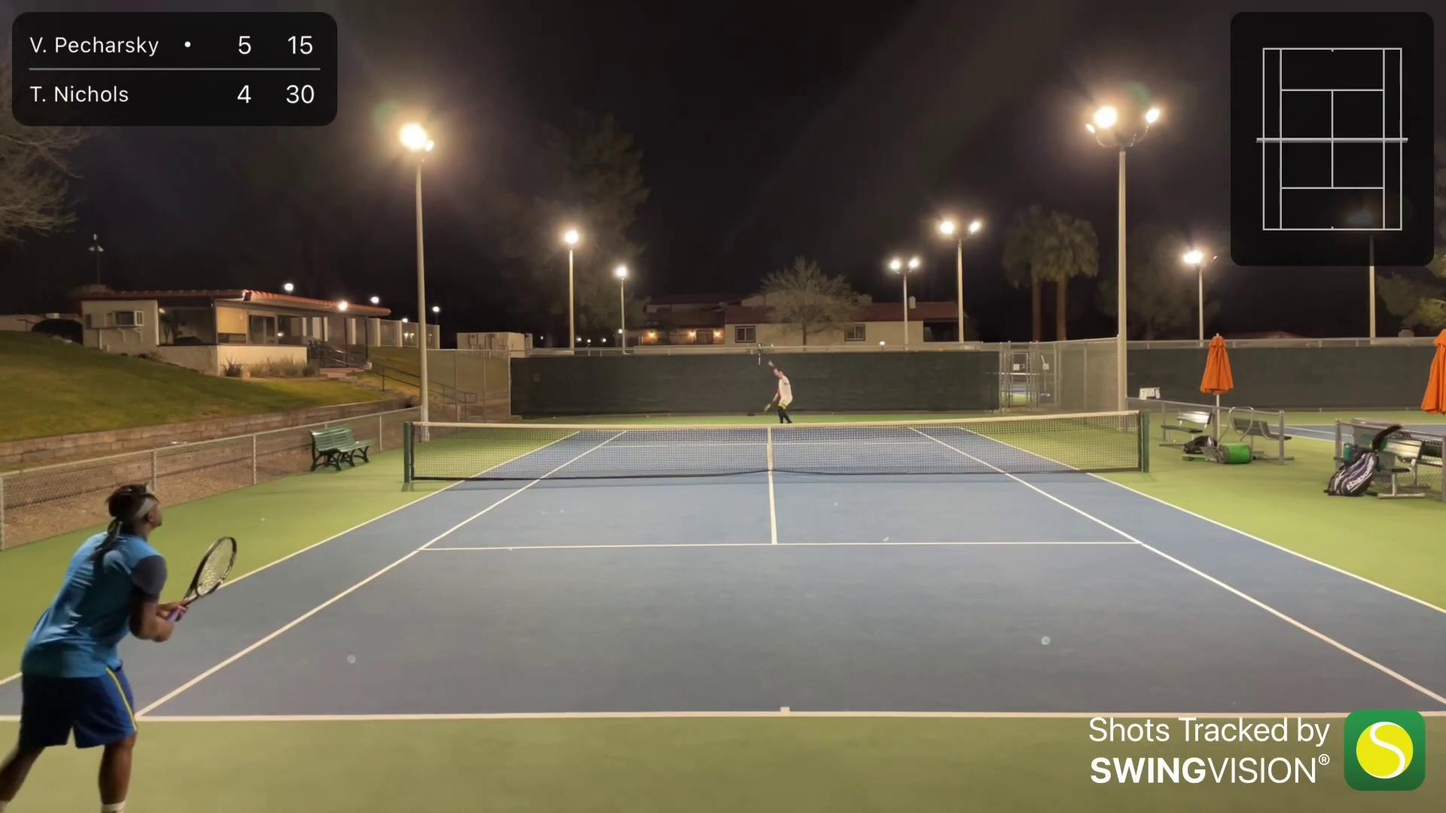ball: (770, 343, 775, 349)
